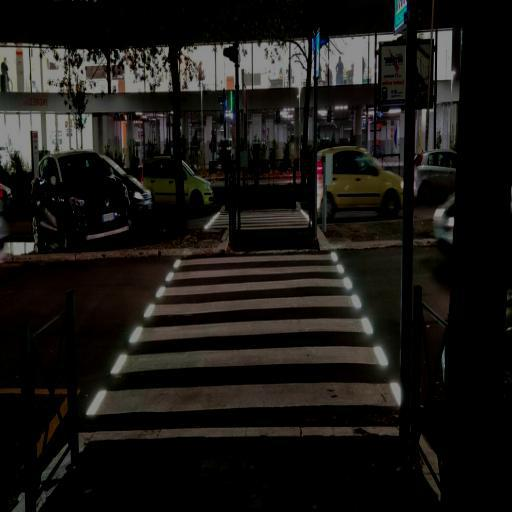crosswalk: (104, 314, 390, 377), (144, 254, 366, 300)
